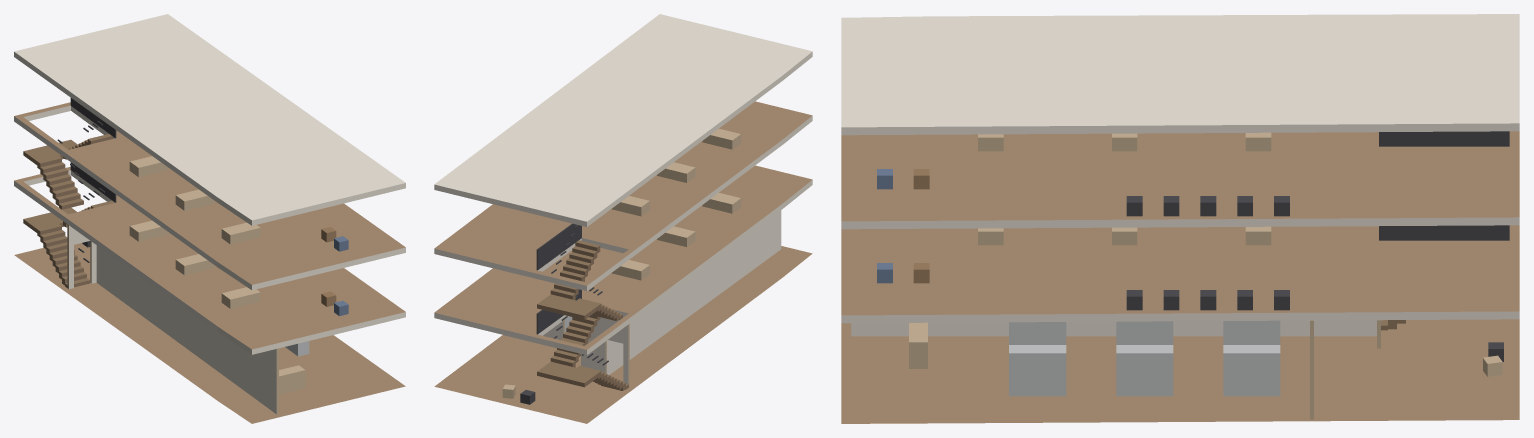
Rendered from interior.glb.
The picture shows the model from 3 angles, left to right: view 1: azimuth 30°, elevation 25°; view 2: azimuth 150°, elevation 25°; view 3: azimuth 270°, elevation 25°; orthographic projection. The views are drawn at different scales.
Parts seen in each view (by area): view 1: slabs, partitions, stair, coarse-s1, coarse-s2, coarse-s0; view 2: slabs, partitions, stair, coarse-s2, coarse-s1, coarse-s0; view 3: slabs, coarse-s0, partitions, stair, coarse-s2, coarse-s1.
Part boxes in pixels (x1,y1,x2,y2): slabs: (14, 14, 405, 423); partitions: (67, 224, 278, 414); stair: (23, 98, 116, 288); coarse-s1: (129, 220, 348, 316); coarse-s2: (129, 156, 348, 251); coarse-s0: (82, 241, 309, 394); slabs: (434, 14, 812, 423); partitions: (505, 210, 781, 386); stair: (536, 223, 628, 390); coarse-s2: (611, 128, 741, 216); coarse-s1: (611, 193, 741, 280); coarse-s0: (502, 316, 572, 404); slabs: (841, 14, 1519, 423); coarse-s0: (909, 320, 1503, 396); partitions: (851, 320, 1380, 419); stair: (1379, 131, 1509, 330); coarse-s2: (877, 132, 1289, 216); coarse-s1: (877, 226, 1289, 310).
Bounding box in the file's own units: 8.02 × 9.8 × 20.26.
